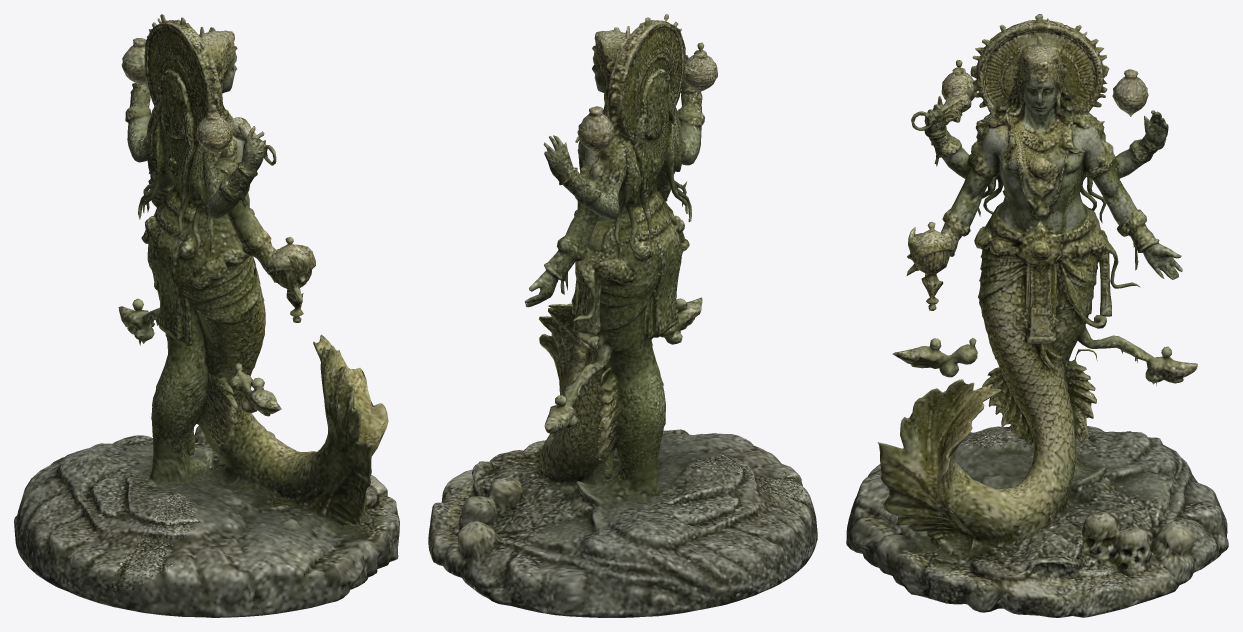
The model's file is tripo_convert_82eeac5c-2c5e-4a89-9d62-a05c2c80cc9c.fbx.
The picture shows the model from 3 angles, left to right: view 1: azimuth 30°, elevation 25°; view 2: azimuth 150°, elevation 25°; view 3: azimuth 270°, elevation 25°; orthographic projection. The views are drawn at different scales.
Parts seen in each view (by area): view 1: tripo_node_82eeac5c; view 2: tripo_node_82eeac5c; view 3: tripo_node_82eeac5c.
Boxes of the visible parts, x1,y1,x2,y2 form: tripo_node_82eeac5c: (14, 14, 399, 617); tripo_node_82eeac5c: (428, 14, 817, 617); tripo_node_82eeac5c: (846, 14, 1228, 617).
Size of the model in its own units: 0.6692 by 0.9983 by 0.6738.
Materials: 1 (1 with a texture image).
